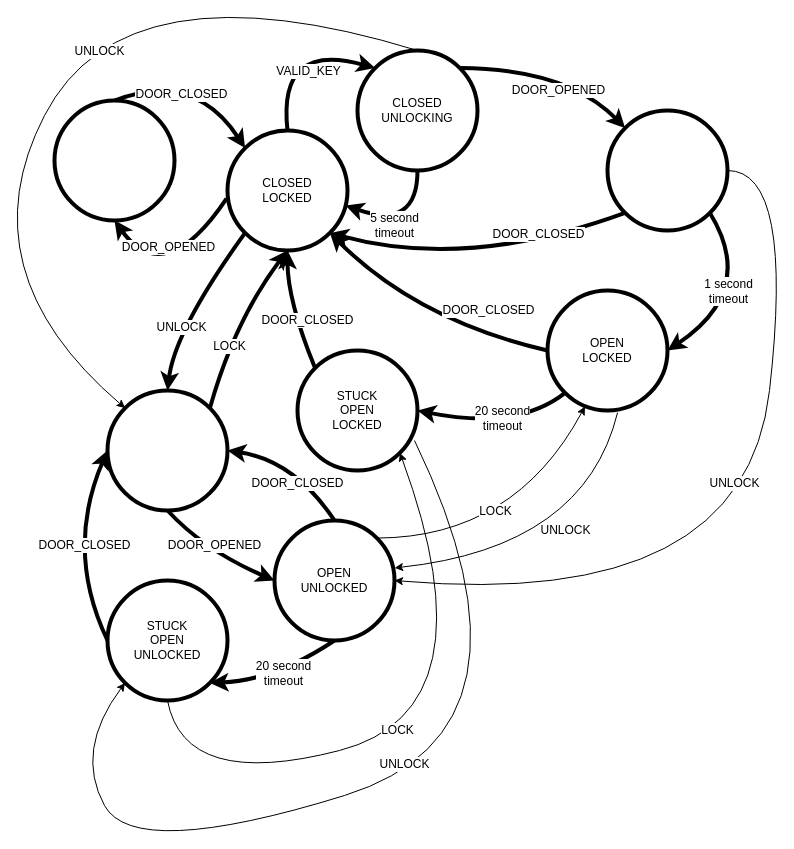
Image size: 794x849. Some labels were removed from this diagram. The box of each missing label's shape, as (x1, y1, x2, y2) in pixels:
CLOSED UNLOCKED: (105, 388, 229, 512)
FORCED OPEN: (52, 98, 176, 222)
OPEN UNLOCKING: (605, 108, 729, 232)
